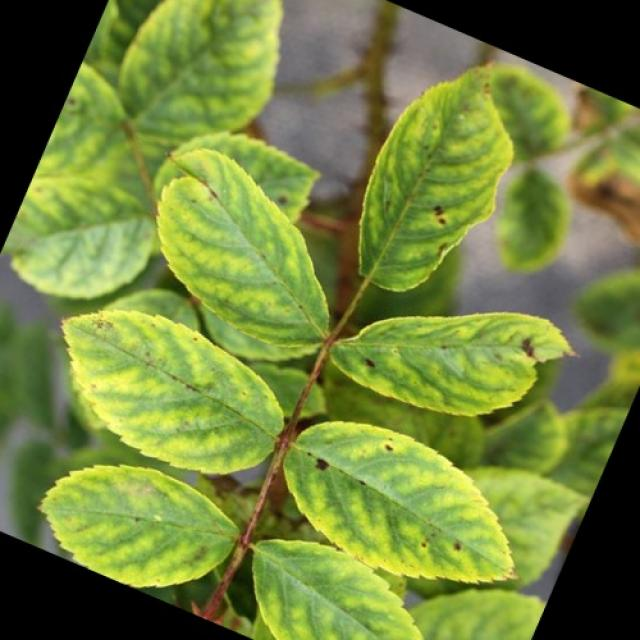Chlorosis: (2, 20, 617, 640)
